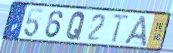2: (85, 14, 106, 43)
5: (23, 7, 46, 38)
6: (45, 10, 64, 39)
A: (123, 15, 148, 48)
Q: (65, 11, 87, 41)
T: (111, 13, 131, 44)
